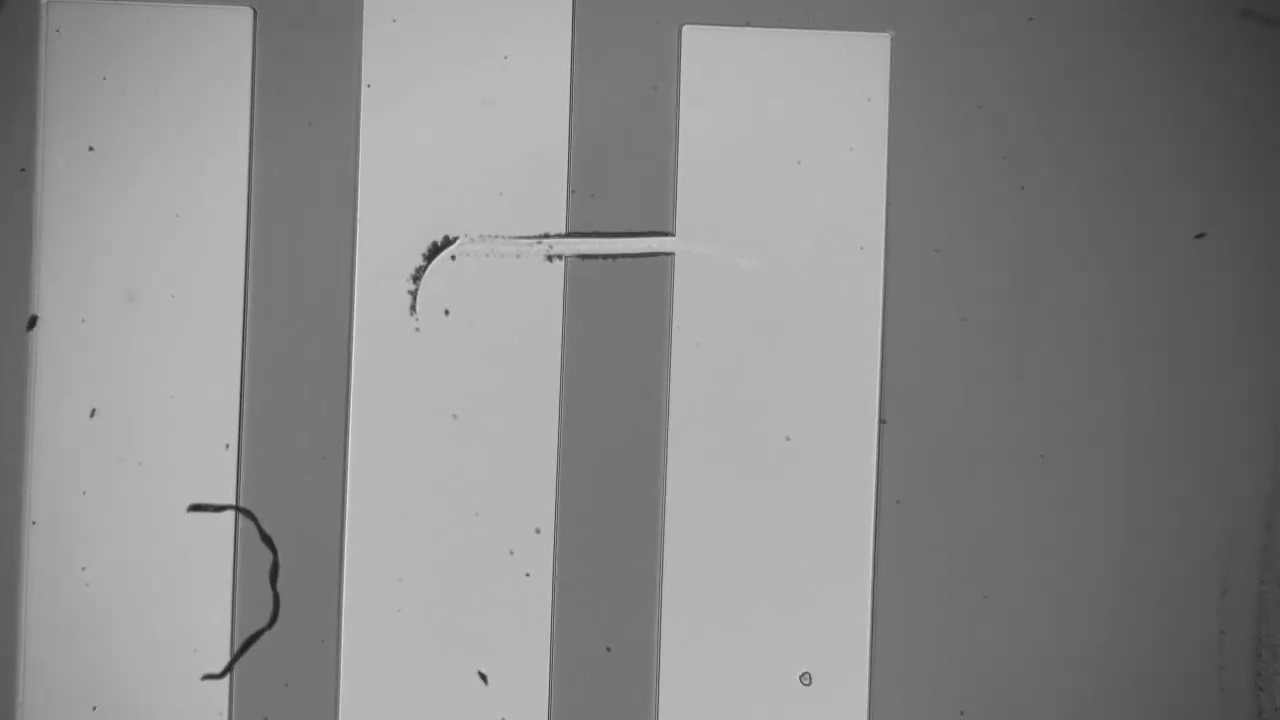Short_circuit: (518, 192, 705, 298)
